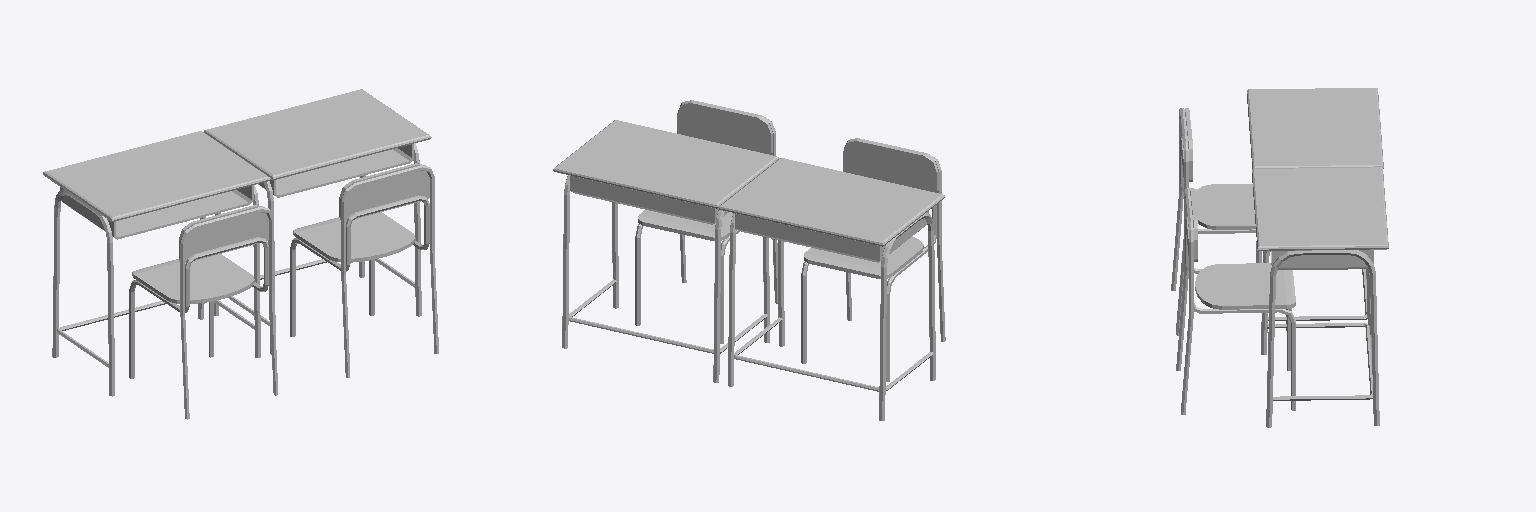
File: bureau1.obj
3 renders of one model, left to right at view 1: azimuth 30°, elevation 25°; view 2: azimuth 150°, elevation 25°; view 3: azimuth 270°, elevation 25°, orthographic.
Parts seen in each view (by area): view 1: 50_50, 31_31, 18_18, 21_21, 12_12, 25_25, 19_19, 23_23, 45_45; view 2: 50_50, 21_21, 18_18, 19_19, 31_31, 23_23, 45_45, 25_25, 12_12; view 3: 50_50, 31_31, 12_12, 23_23, 25_25, 45_45, 18_18, 21_21, 19_19.
Part boxes in pixels (x1,y1,x2,y2): 50_50: (43,89,431,221); 31_31: (132,212,415,303); 18_18: (64,144,413,239); 21_21: (179,163,429,262); 12_12: (180,165,438,413); 25_25: (129,195,429,373); 19_19: (53,181,275,388); 23_23: (198,143,421,350); 45_45: (57,259,414,367); 50_50: (553,120,944,246); 21_21: (677,101,938,192); 18_18: (570,176,918,262); 19_19: (713,210,935,413); 31_31: (638,210,923,278); 23_23: (562,175,784,378); 45_45: (569,279,933,391); 25_25: (635,205,936,376); 12_12: (678,100,944,336); 50_50: (1247,88,1388,250); 31_31: (1195,184,1295,309); 12_12: (1171,108,1193,410); 23_23: (1266,250,1379,419); 25_25: (1180,138,1295,405); 45_45: (1267,269,1372,400); 18_18: (1270,250,1373,269); 21_21: (1185,108,1197,261); 19_19: (1256,241,1371,347).
Bounding box in the file's own units: 137 × 74.93 × 78.74.